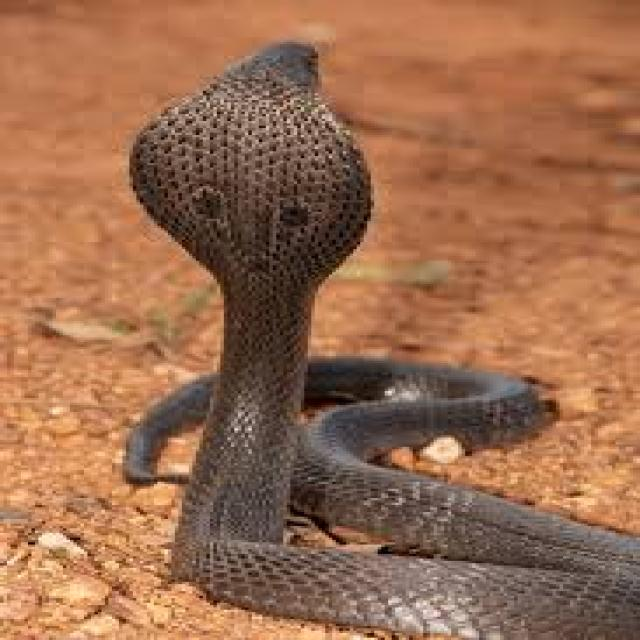Venomous: (117, 50, 374, 280)
